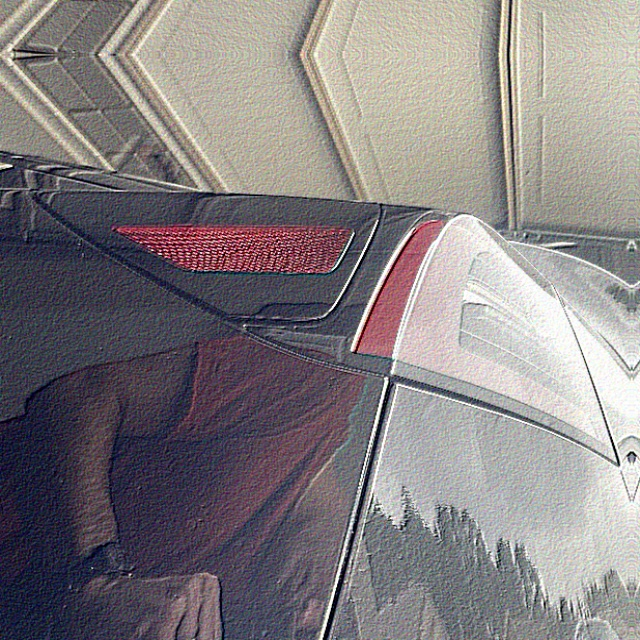reflector: (109, 225, 354, 276)
